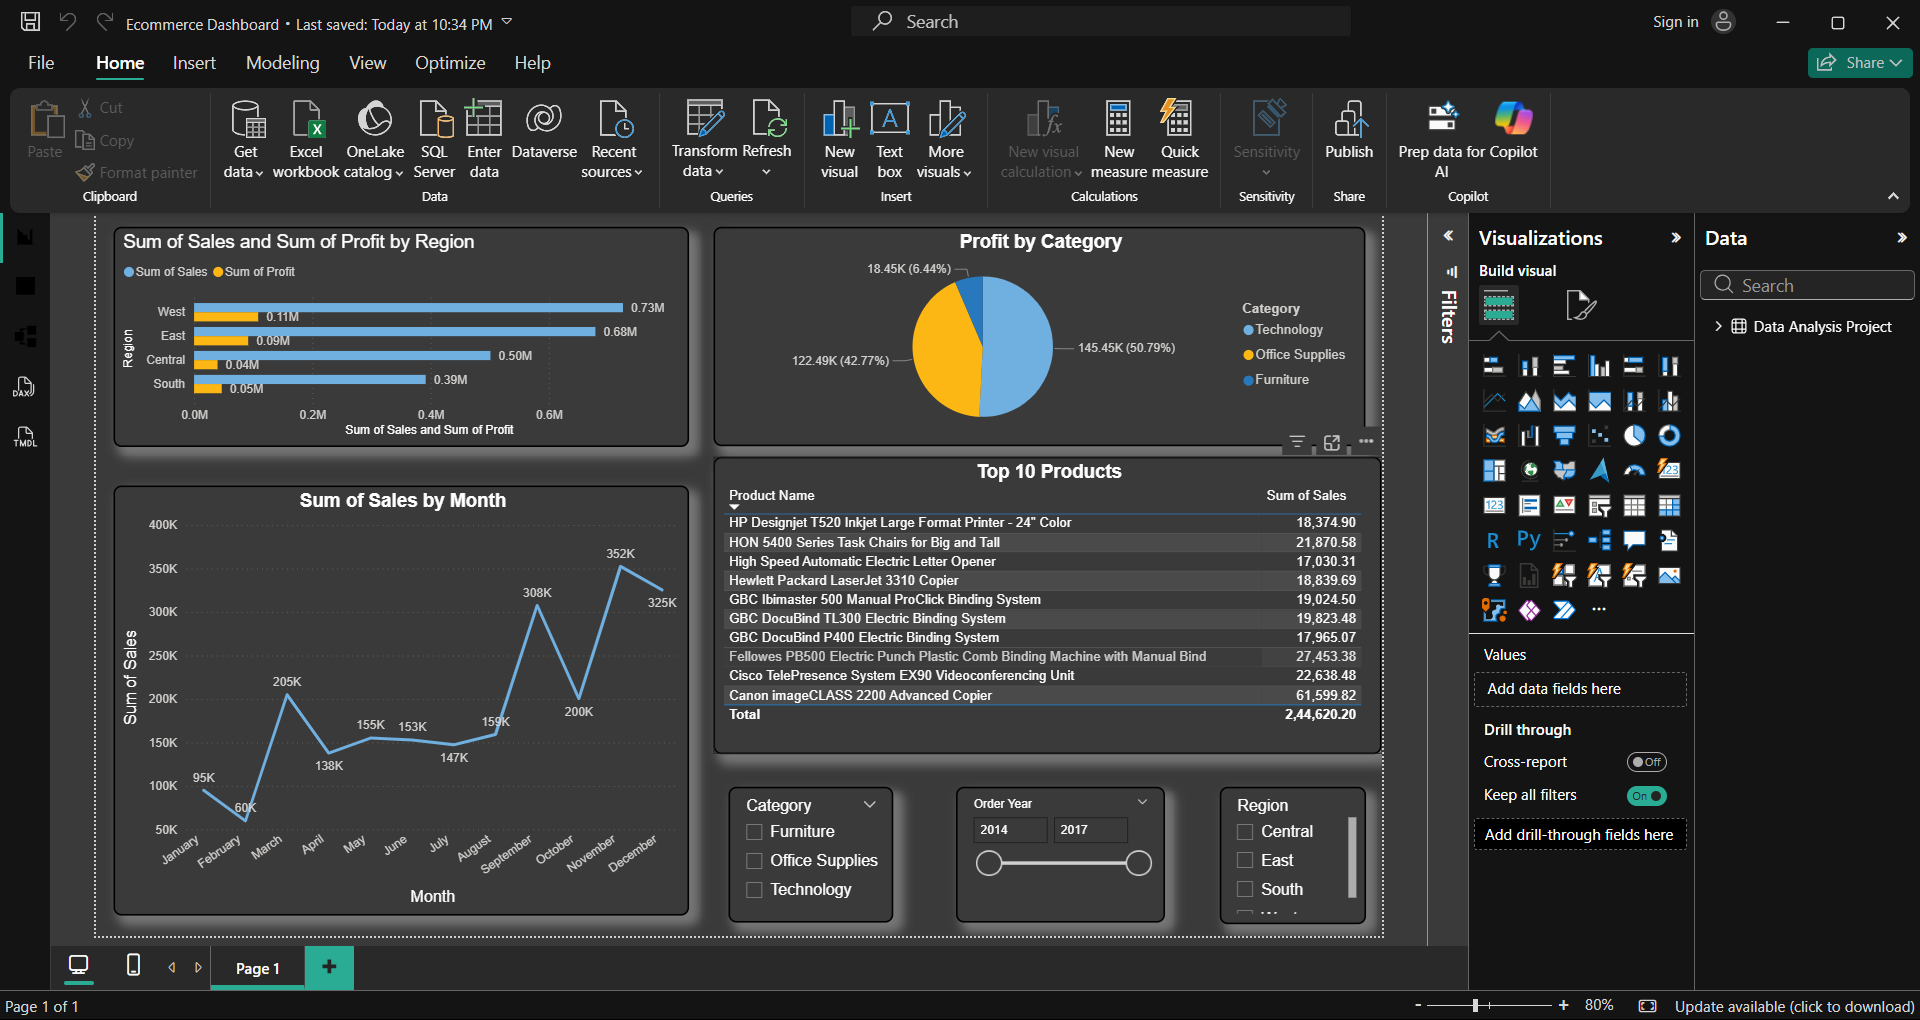

The dashboard page shown, as its layout file describes it:
{"tool":"powerbi","page":{"name":"Page 1","canvas":[1280,720],"ordinal":0},"visuals":[{"type":"pieChart","title":"Profit by Category","fields":{"Category":["Data Analysis Project.Category"],"Y":["Sum(Data Analysis Project.Profit)"]},"box":[615,13.8,648.8,218.8],"z":0},{"type":"tableEx","title":"Top 10 Products","fields":{"Values":["Data Analysis Project.Product Name","Sum(Data Analysis Project.Sales)"]},"box":[615,242.5,665,296.2],"z":1000},{"type":"slicer","fields":{"Values":["Data Analysis Project.Category"]},"box":[629.4,571,164.2,135.6],"z":2000},{"type":"slicer","fields":{"Values":["Data Analysis Project.Order Year"]},"box":[855.8,571,207.7,135.6],"z":3000},{"type":"slicer","fields":{"Values":["Data Analysis Project.Region"]},"box":[1118.3,571,145.5,136.8],"z":4000},{"type":"lineChart","fields":{"Y":["Sum(Data Analysis Project.Sales)"],"Category":["Data Analysis Project.Order Date.Variation.Date Hierarchy.Month"]},"box":[17.2,271.2,573,428.2],"z":5000},{"type":"clusteredBarChart","fields":{"Y":["Sum(Data Analysis Project.Sales)","Sum(Data Analysis Project.Profit)"],"Category":["Data Analysis Project.Region"]},"box":[17,14,573,219],"z":6000}]}

Visuals, with their boxes on the page's 1280x720 design canvas (x1, y1, x2, y2). These are canvas units, not pixel positions in the 1920x1020 screenshot, which may show the page scaled, cropped or inside an application window:
"Profit by Category" pieChart: bbox=[615, 14, 1264, 233]
"Top 10 Products" tableEx: bbox=[615, 242, 1280, 539]
slicer - Data Analysis Project.Category: bbox=[629, 571, 794, 707]
slicer - Data Analysis Project.Order Year: bbox=[856, 571, 1064, 707]
slicer - Data Analysis Project.Region: bbox=[1118, 571, 1264, 708]
lineChart - Sum(Data Analysis Project.Sales) x Data Analysis Project.Order Date.Variation.Date Hierarchy.Month: bbox=[17, 271, 590, 699]
clusteredBarChart - Sum(Data Analysis Project.Sales) x Sum(Data Analysis Project.Profit): bbox=[17, 14, 590, 233]
